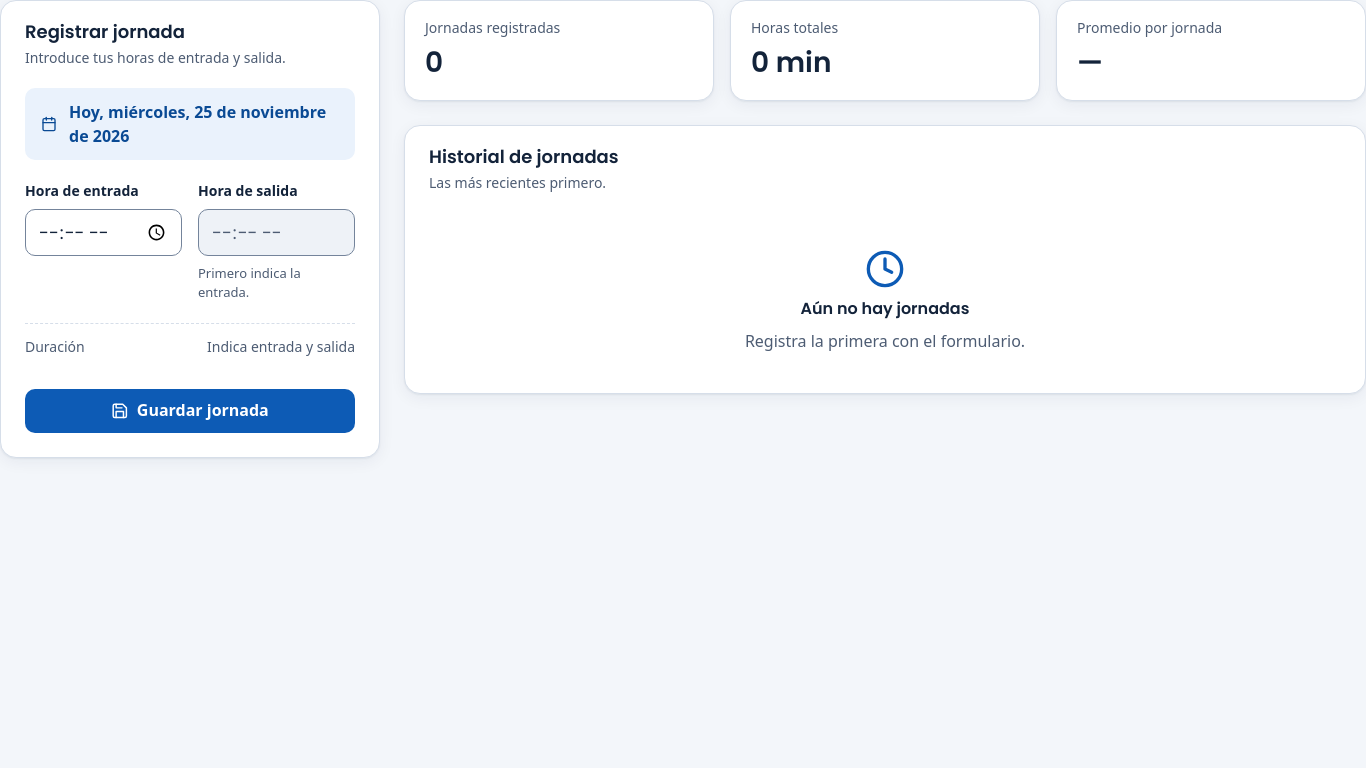
Test case: rejects an exit time that is not after the entry time without calling the API
Type "10:00" into the time field labelled "Hora de entrada" at point(104, 232), box [25, 209, 182, 256]
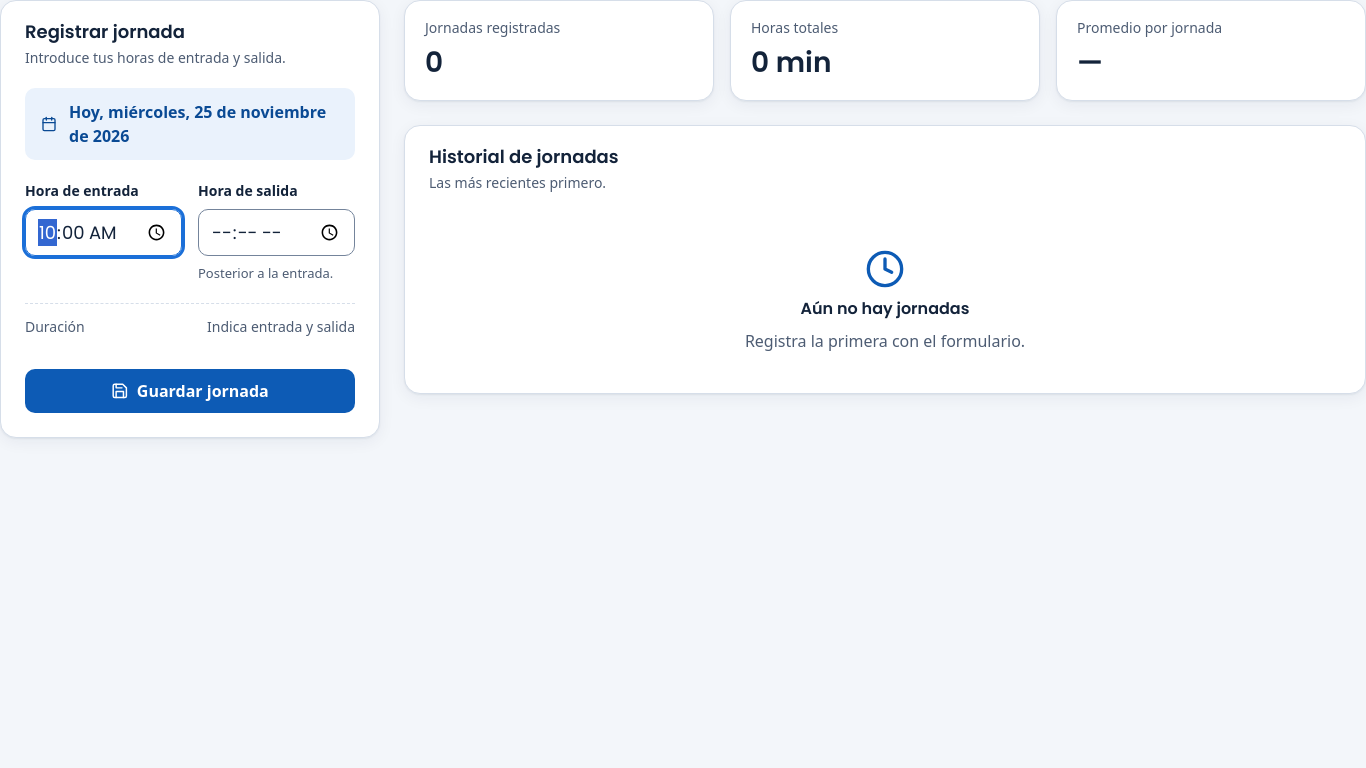
Type "09:00" into the time field labelled "Hora de salida" at point(276, 232), box [198, 209, 355, 256]
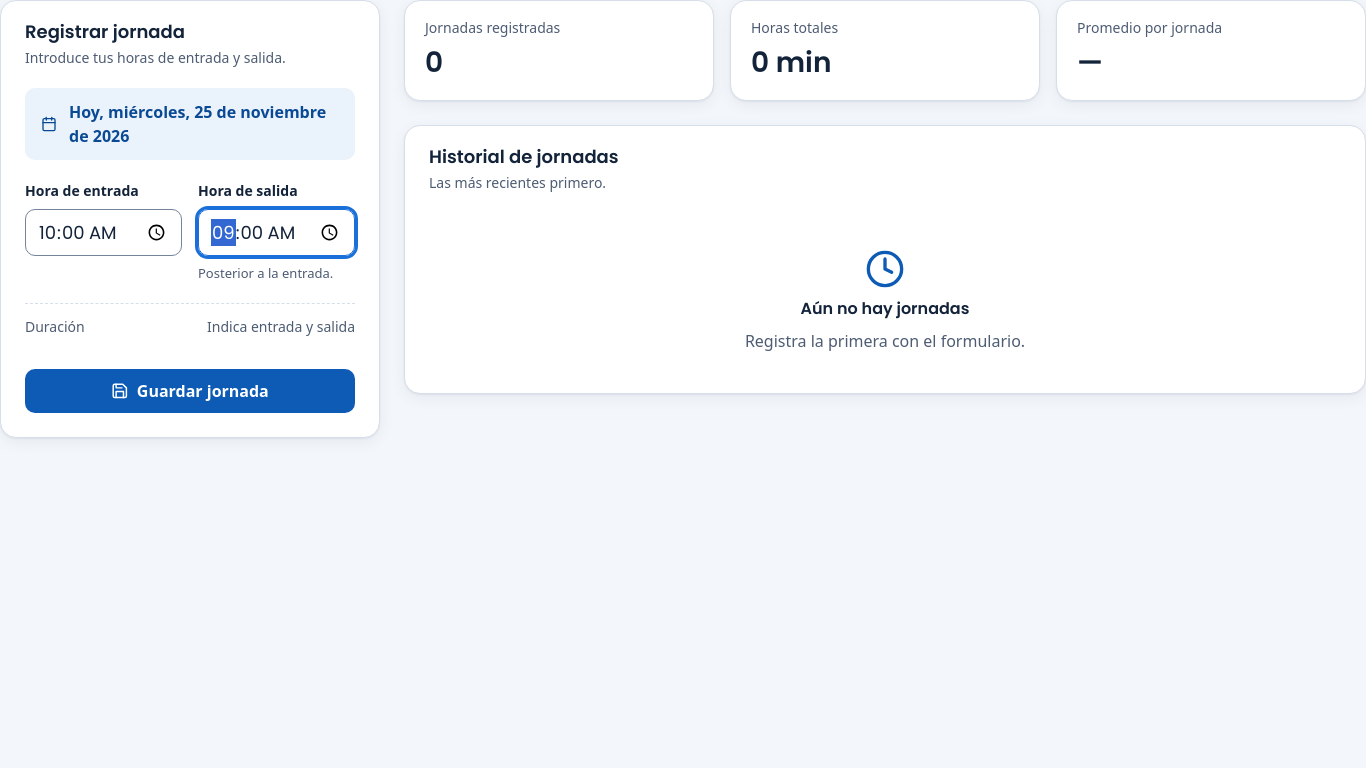
Click the button "Guardar jornada" at point(190, 391), box [25, 369, 355, 413]
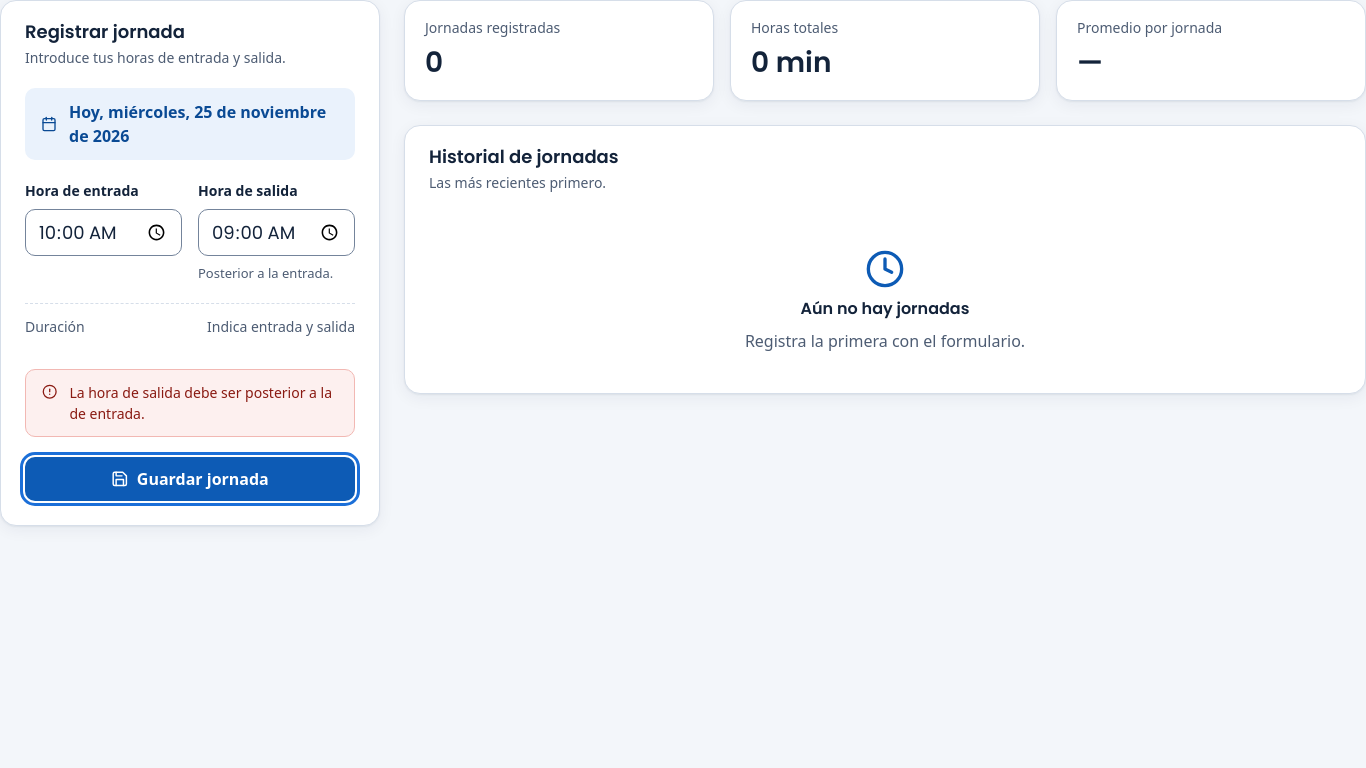
Check: the text "La hora de salida debe ser posterior a la de entrada." is shown, box [69, 382, 338, 424]
